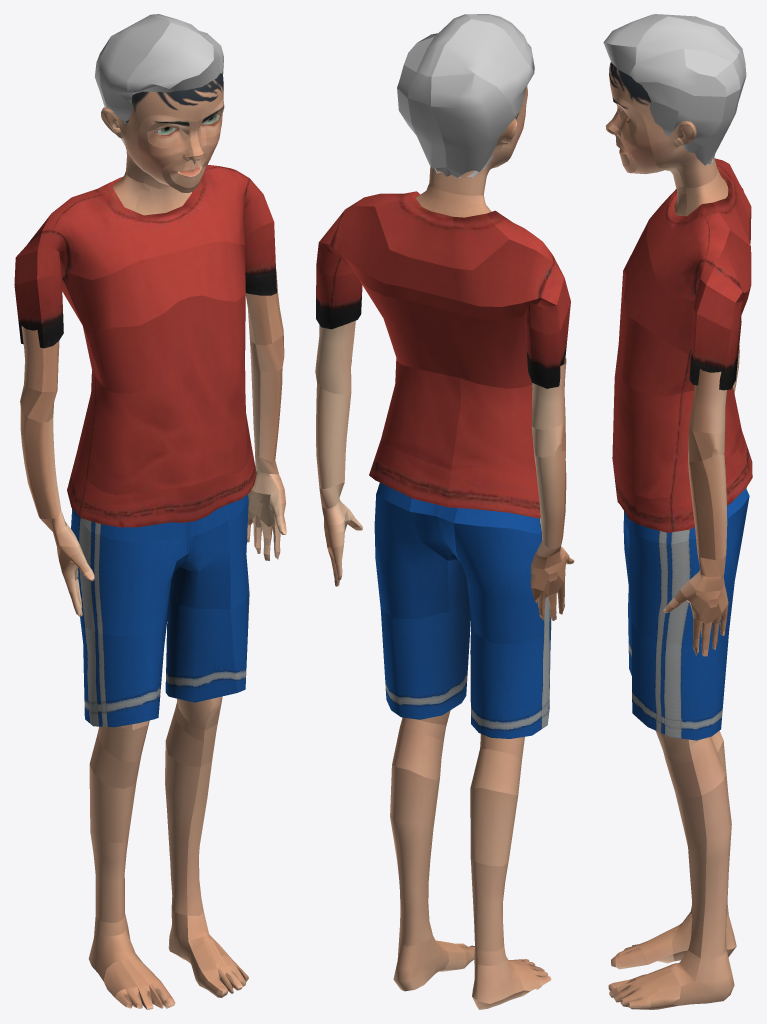
The model's file is boy.fbx.
3 views of the same model, side by side, from view 1: azimuth 30°, elevation 25°; view 2: azimuth 150°, elevation 25°; view 3: azimuth 270°, elevation 25° (orthographic).
Visible parts, largest first — view 1: childer; view 2: childer; view 3: childer.
Boxes of the visible parts, box(x1,y1,x2,y2) form: childer: box(14, 14, 286, 1009); childer: box(315, 14, 574, 1009); childer: box(603, 14, 752, 1009).
Size of the model in its own units: 0.5914 by 2.14 by 0.2981.
